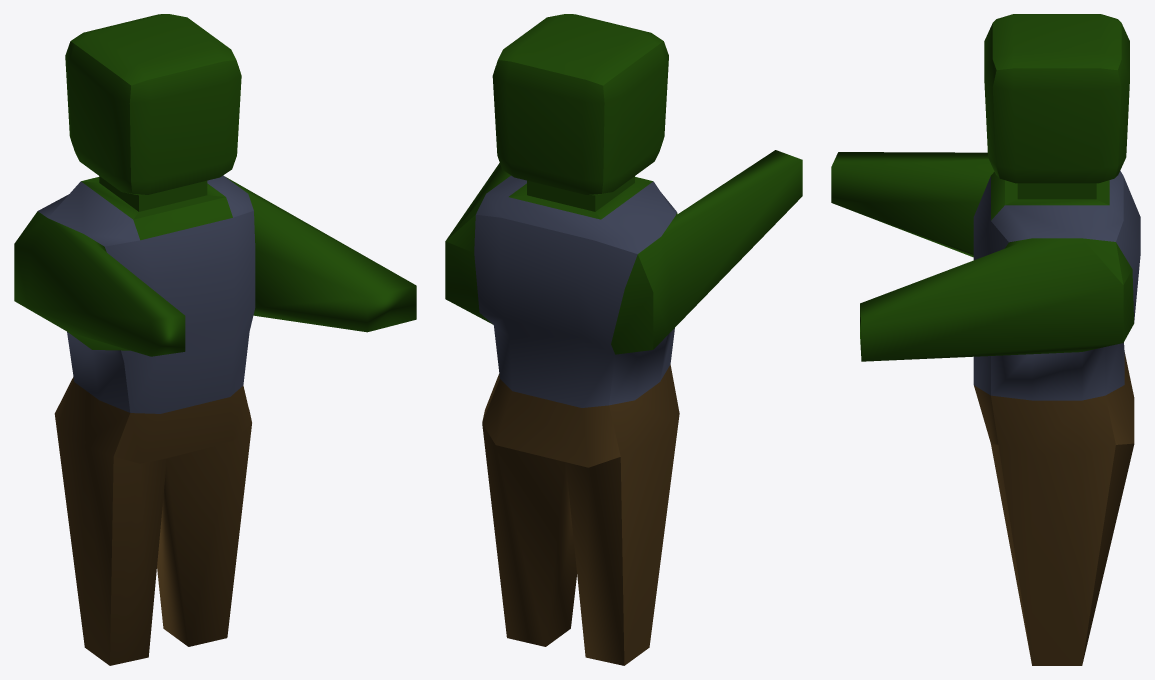
The model's file is zombie.fbx.
3 views of the same model, side by side, from view 1: azimuth 30°, elevation 25°; view 2: azimuth 150°, elevation 25°; view 3: azimuth 270°, elevation 25° (orthographic).
Parts seen in each view (by area): view 1: pasted__goblind; view 2: pasted__goblind; view 3: pasted__goblind.
Boxes of the visible parts, x1,y1,x2,y2 form: pasted__goblind: (14, 14, 416, 665); pasted__goblind: (445, 14, 802, 665); pasted__goblind: (831, 14, 1140, 665).
Bounding box in the file's own units: 0.8695 × 1.81 × 0.843.
